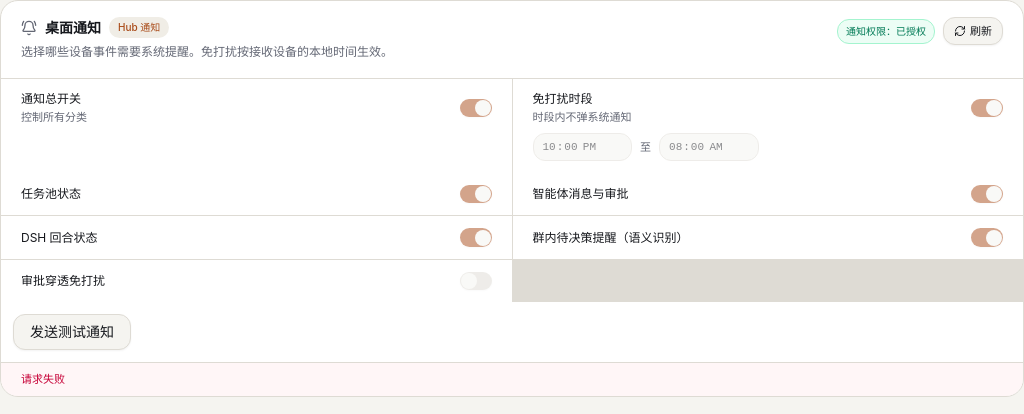
Test: a disconnected desktop can send a local test
Click the button "发送测试通知": click(72, 332) [13, 314, 131, 350]
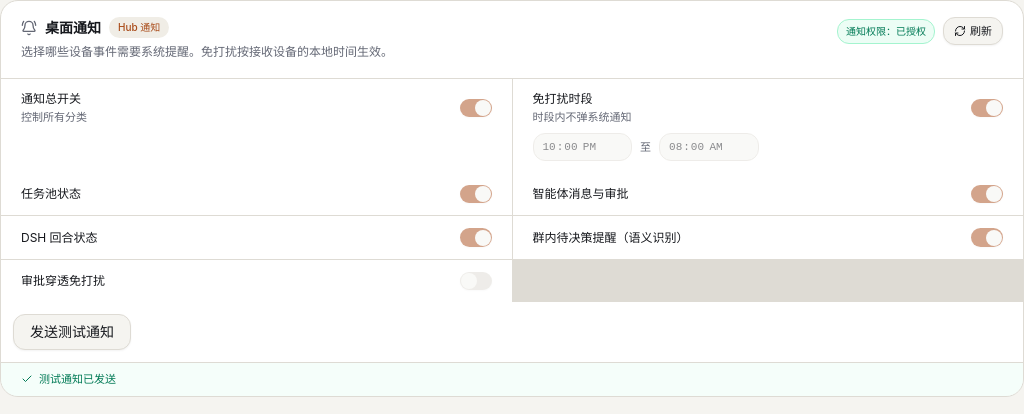
Expected: the switch named "通知总开关" is disabled, [460, 98, 492, 117]
Result: the text "测试通知已发送" is shown at [1, 362, 1023, 396]
